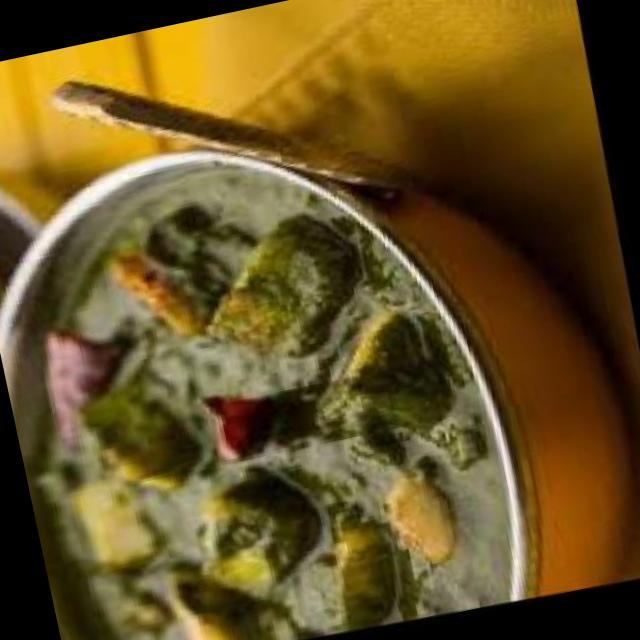palak_paneer: (0, 115, 541, 640)
